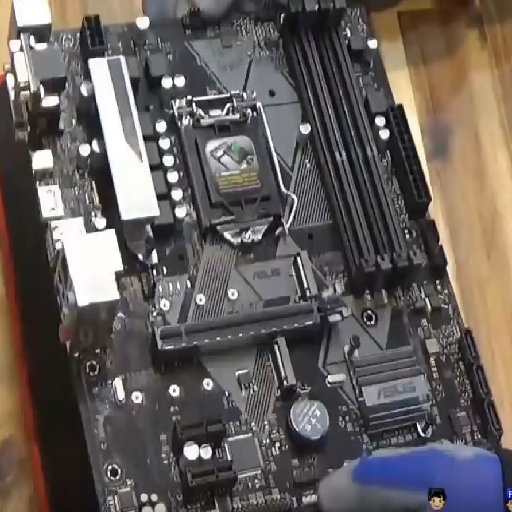CPU: (173, 95, 283, 245)
GPU: (156, 296, 350, 364)
MOTHERBOARD: (12, 4, 506, 512)
RAM: (286, 1, 425, 292)
SSD: (271, 338, 296, 396), (293, 251, 317, 297)
